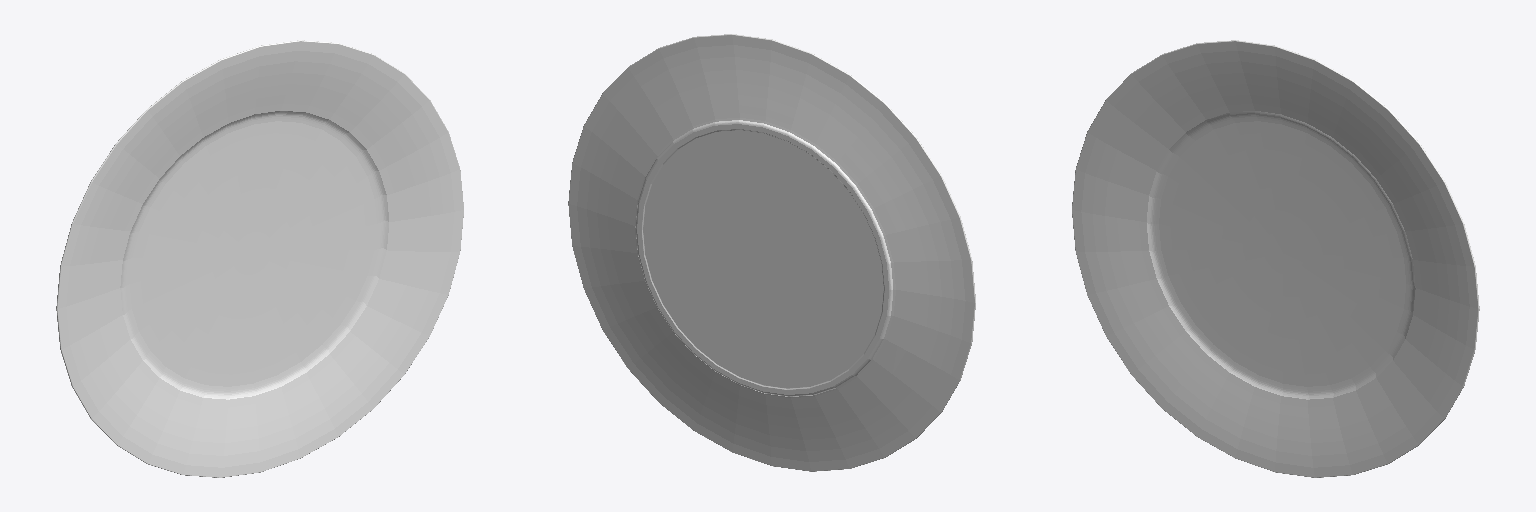
File: ClassicPlate30cm.obj
3 views of the same model, side by side, from view 1: azimuth 30°, elevation 25°; view 2: azimuth 150°, elevation 25°; view 3: azimuth 330°, elevation 25° (orthographic).
Parts seen in each view (by area): view 1: ClassicPlate30cm_SM_ClassicPlate30cm; view 2: ClassicPlate30cm_SM_ClassicPlate30cm; view 3: ClassicPlate30cm_SM_ClassicPlate30cm.
Boxes of the visible parts, <box> form: ClassicPlate30cm_SM_ClassicPlate30cm: <box>56,40,463,477</box>; ClassicPlate30cm_SM_ClassicPlate30cm: <box>568,34,975,471</box>; ClassicPlate30cm_SM_ClassicPlate30cm: <box>1072,40,1479,477</box>.
Size of the model in its own units: 0.3021 by 0.3021 by 0.0124.